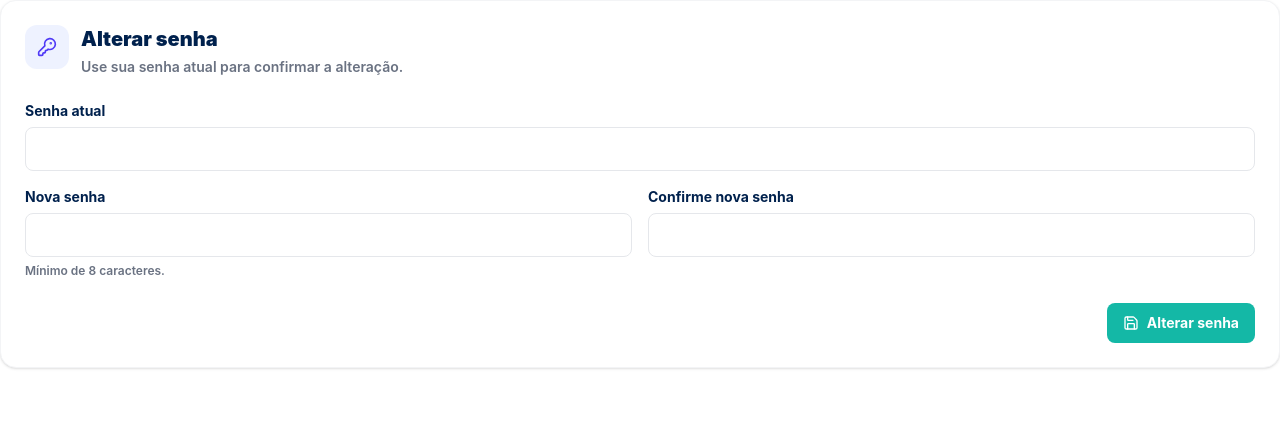
it: AlterarSenhaForm › mostra erro generico quando service falha
The width and height of the screenshot is (1280, 440).
Type "atual123" into the password field labelled "Senha atual". click: (640, 149)
box: [25,127,1255,171]
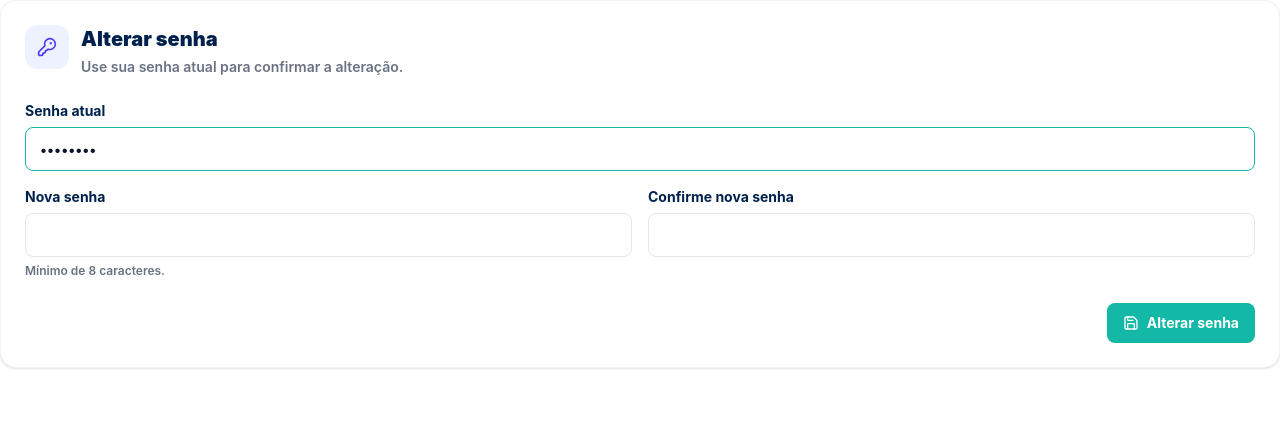
Type "nova1234" into the password field labelled "Nova senha". click: (328, 235)
box: [25,213,632,257]
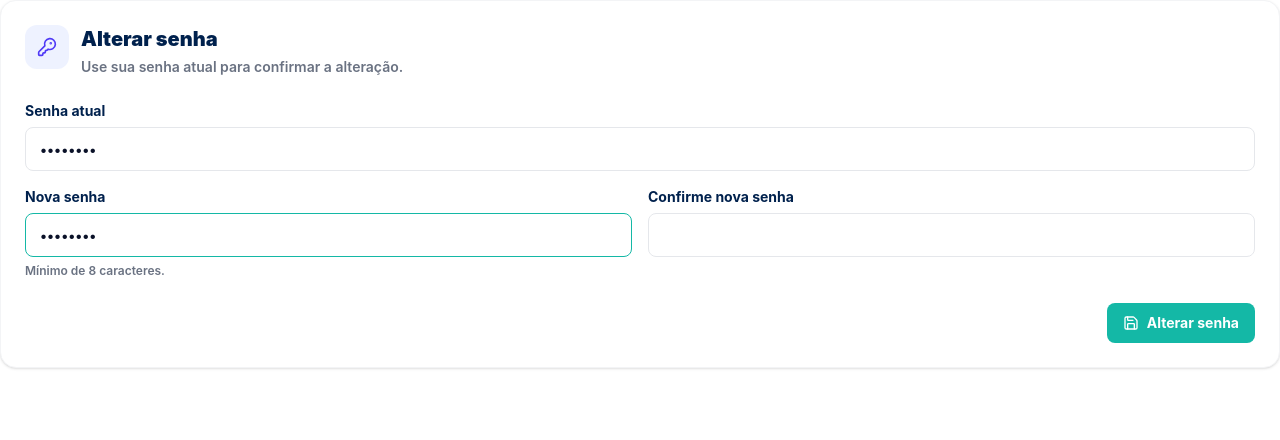
Type "nova1234" into the password field labelled "Confirme nova senha". click: (952, 235)
box: [648,213,1255,257]
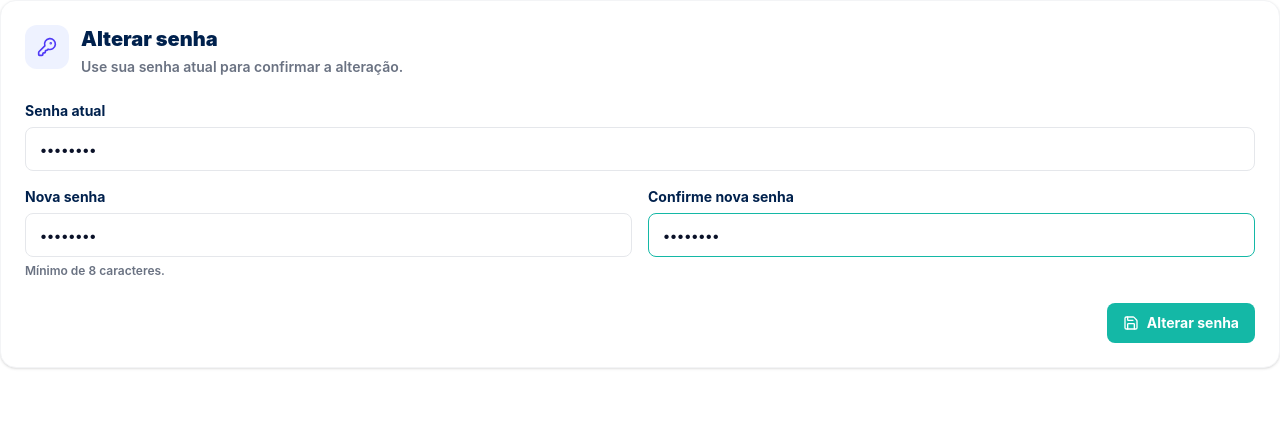
Click the button "Alterar senha". click: (1181, 323)
box: [1107,303,1255,343]
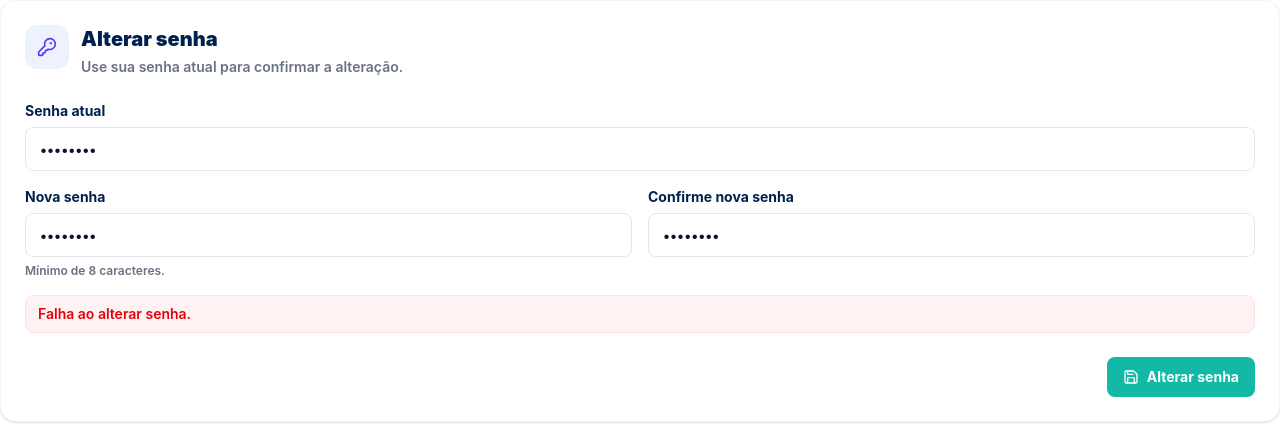
Now the text "Falha ao alterar senha." is shown, box [25,295,1255,333]
